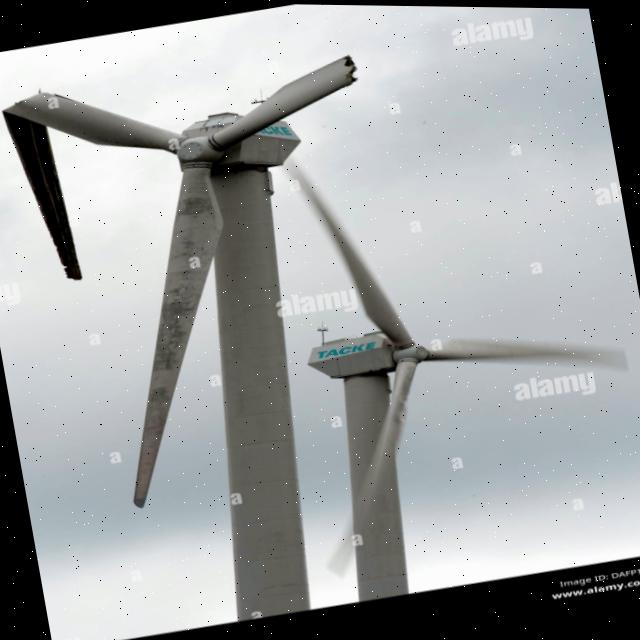damaged-blade: (3, 92, 185, 279), (210, 54, 356, 150), (3, 92, 182, 149)
solid-blade: (134, 161, 223, 506)
